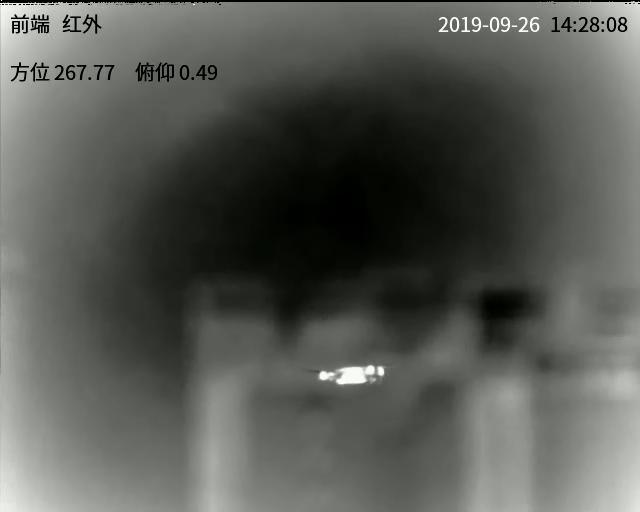uav: (309, 361, 386, 388)
